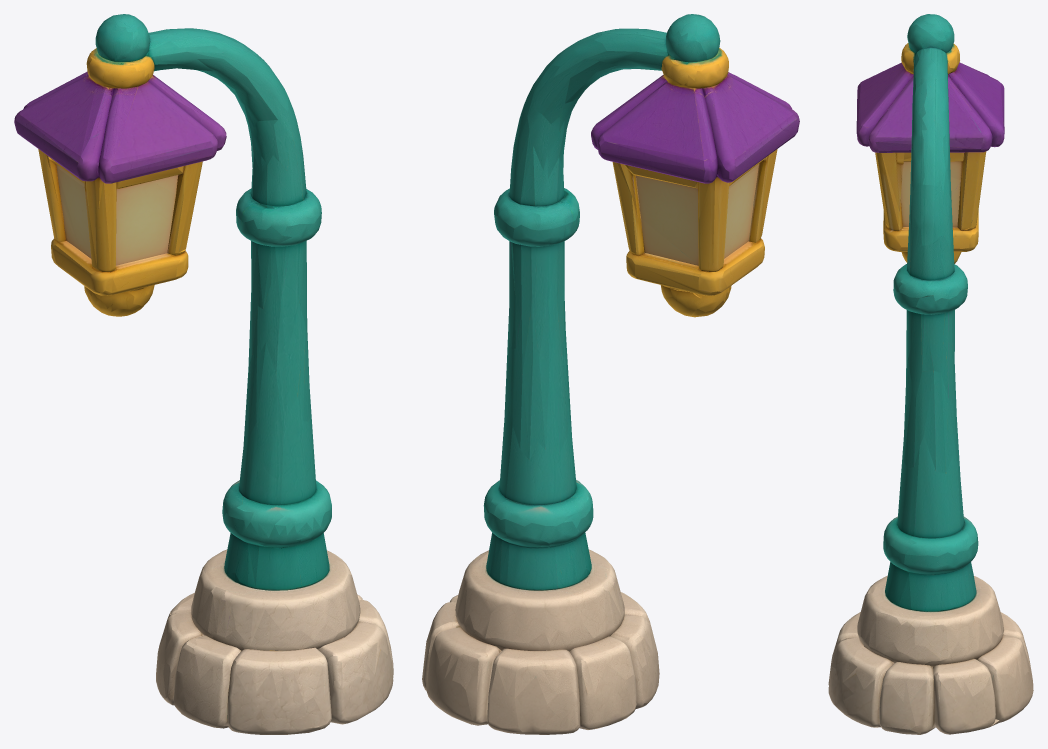
3 views of the same model, side by side, from view 1: azimuth 30°, elevation 25°; view 2: azimuth 150°, elevation 25°; view 3: azimuth 270°, elevation 25° (orthographic). The views are drawn at different scales.
Visible parts, largest first — view 1: island-streetlamp-v1-1; view 2: island-streetlamp-v1-1; view 3: island-streetlamp-v1-1.
Part boxes in pixels (x1,y1,x2,y2): island-streetlamp-v1-1: [14, 14, 393, 734]; island-streetlamp-v1-1: [422, 14, 799, 734]; island-streetlamp-v1-1: [828, 14, 1033, 734].
Size of the model in its own units: 0.973 by 2 by 0.6059.
1 material, 1 textured.
